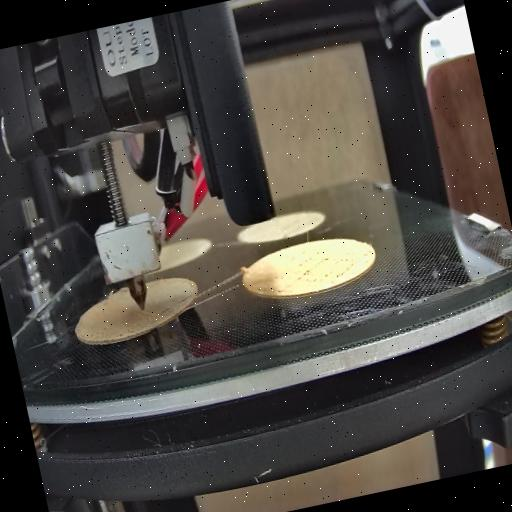under_extrusion: (294, 240, 372, 290), (86, 318, 137, 350), (152, 290, 198, 321), (254, 276, 288, 302)
